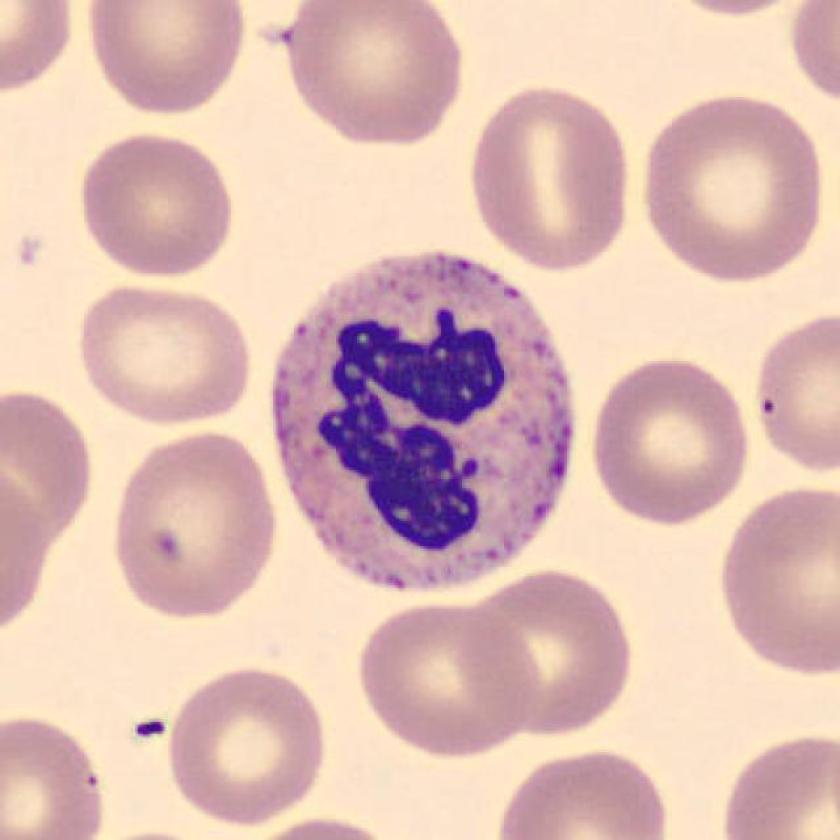neutrophil: (277, 254, 573, 589)
